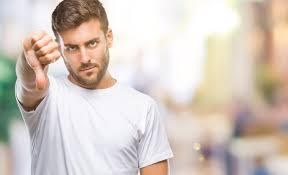Persons: (47, 0, 126, 88)
